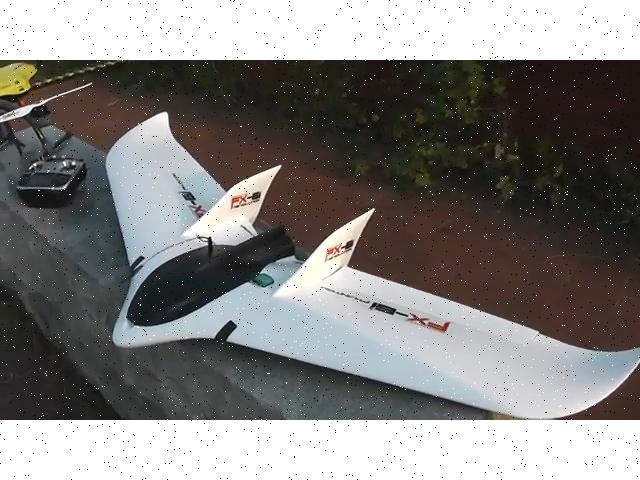Anti-Drone: (66, 94, 640, 419)
